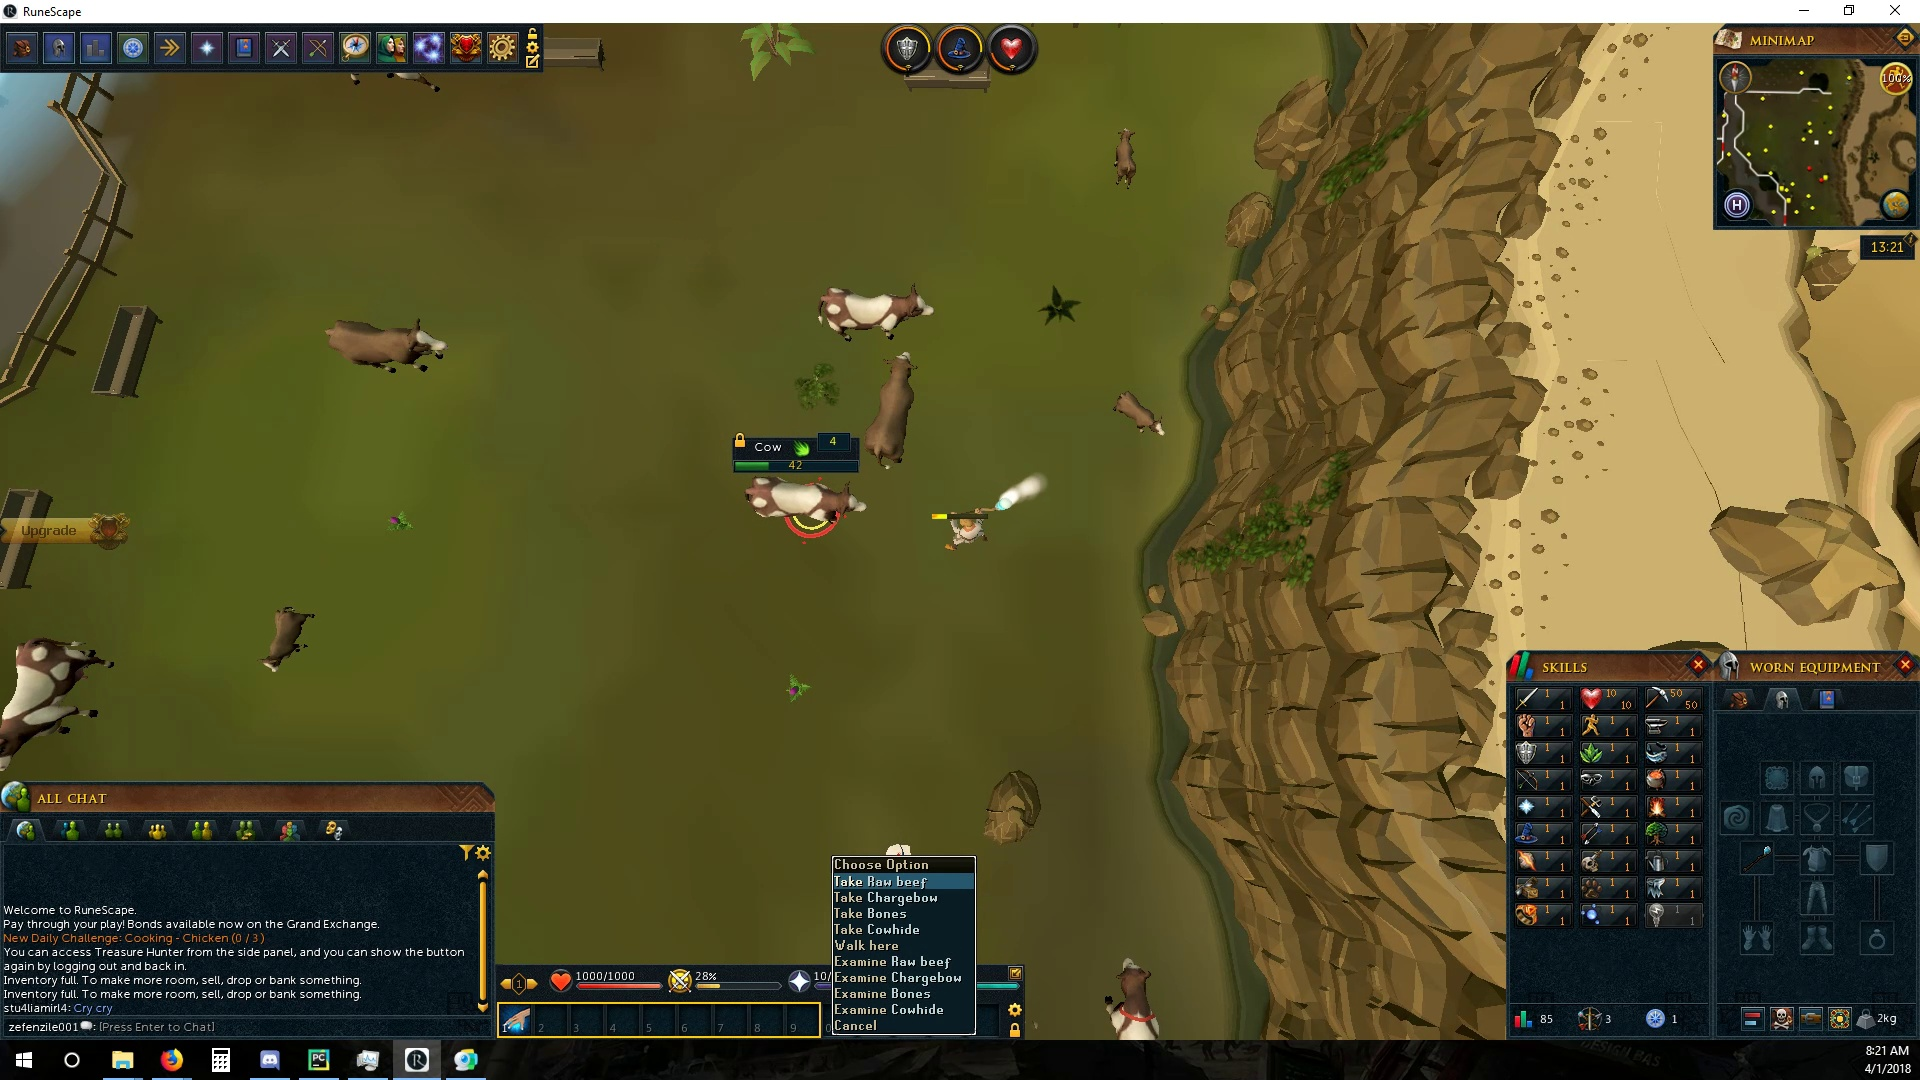calf: (260, 605, 313, 676), (1113, 390, 1174, 439), (1110, 127, 1142, 189)
cow: (1, 634, 119, 775), (320, 313, 448, 376), (815, 280, 938, 339), (737, 473, 868, 527), (864, 347, 919, 473)
